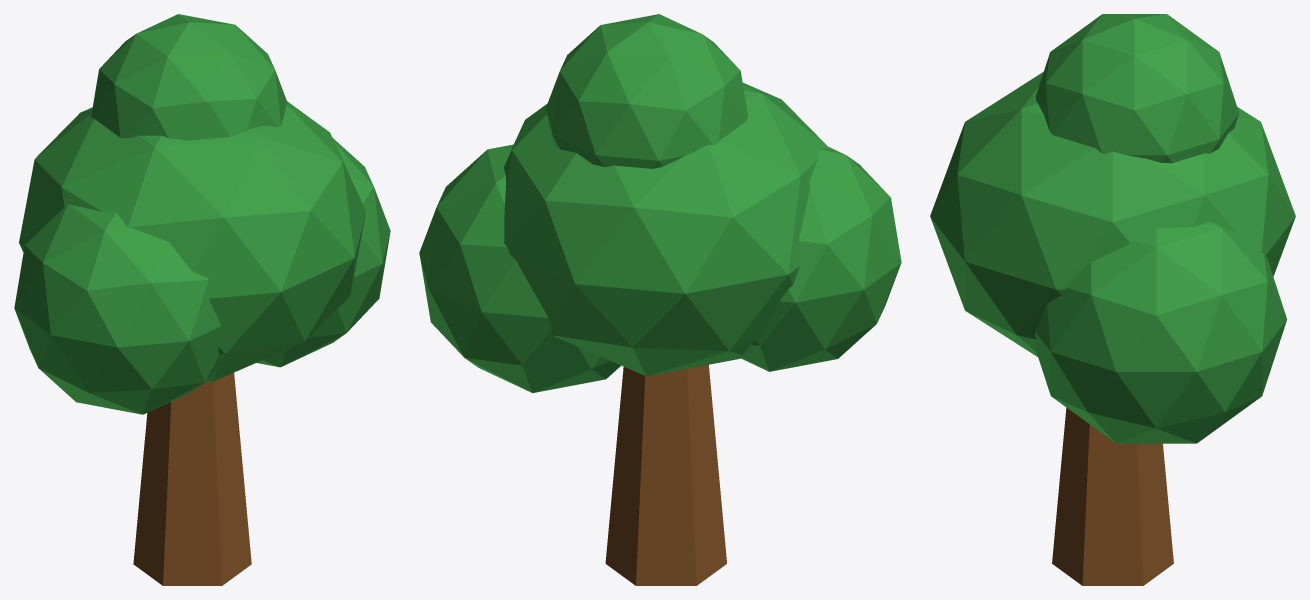
Rendered from tree_oak.glb.
3 renders of one model, left to right at view 1: azimuth 30°, elevation 25°; view 2: azimuth 150°, elevation 25°; view 3: azimuth 270°, elevation 25°, orthographic. The views are drawn at different scales.
Parts seen in each view (by area): view 1: folha_carvalho.001, tronco.004; view 2: folha_carvalho.001, tronco.004; view 3: folha_carvalho.001, tronco.004.
Part boxes in pixels (x1,y1,x2,y2): folha_carvalho.001: (14,14,390,414); tronco.004: (133,372,251,585); folha_carvalho.001: (419,14,901,392); tronco.004: (605,364,726,585); folha_carvalho.001: (930,14,1295,443); tronco.004: (1052,407,1173,585).
Bounding box in the file's own units: 1.05 × 1.39 × 0.84.
